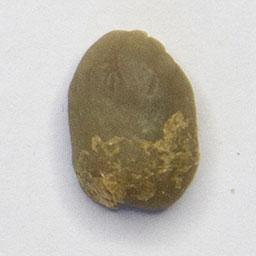premium: (64, 22, 204, 217)
